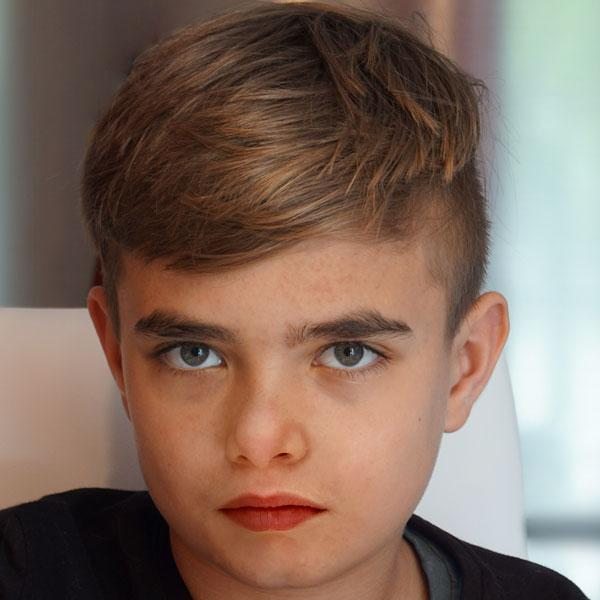Eyes: (298, 334, 401, 385), (141, 334, 232, 384)
